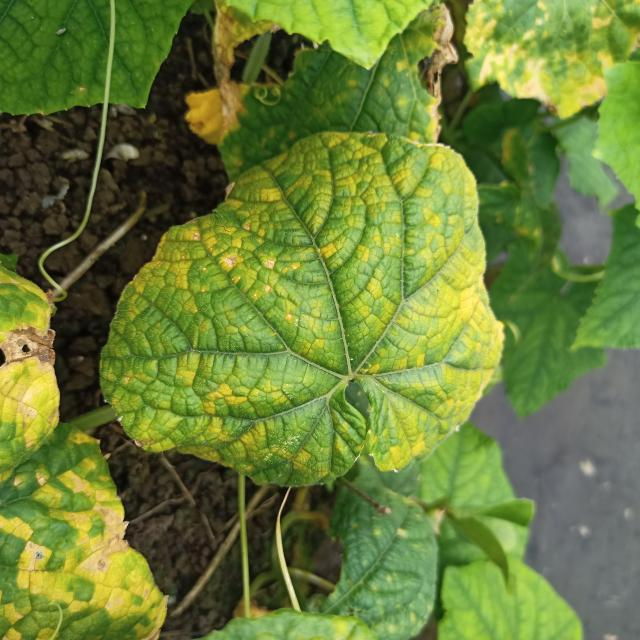disease_cucumber: (114, 133, 500, 480)
